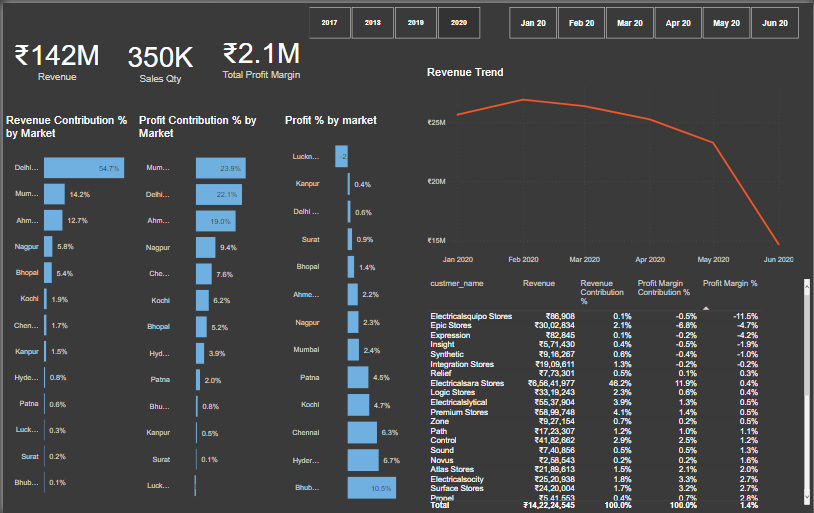

The dashboard page shown, as its layout file describes it:
{"tool":"powerbi","page":{"name":"Profit Analysis","canvas":[1350,850],"ordinal":1},"visuals":[{"type":"card","fields":{"Values":["BaseMeasures (2).Revenue"]},"box":[0,0,179.6,184.8],"z":0},{"type":"card","fields":{"Values":["BaseMeasures (2).Sales Qty"]},"box":[179.6,0,164.1,193],"z":1000},{"type":"barChart","title":"Profit % by market","fields":{"Y":["BaseMeasures (2).Profit Margin %"],"Category":["sales markets.markets_name"]},"box":[464.5,184.8,230.2,664.8],"z":2000},{"type":"barChart","title":"Profit Contribution % by Market","fields":{"Y":["BaseMeasures (2).Profit Margin Contribution %"],"Category":["sales markets.markets_name"]},"box":[221.9,185.8,208.5,659.6],"z":3000},{"type":"slicer","fields":{"Values":["sales date.year"]},"box":[483.2,0,335.5,66.5],"z":4000},{"type":"slicer","fields":{"Values":["sales date.cy_date"]},"box":[818.6,0,531.7,66.5],"z":5000},{"type":"tableEx","title":"Top 5 Customers","fields":{"Values":["sales customers.custmer_name","BaseMeasures (2).Revenue","BaseMeasures (2).Revenue Contribution %","BaseMeasures (2).Profit Margin Contribution %","BaseMeasures (2).Profit Margin %"]},"box":[701.9,454.2,648.3,395.4],"z":6000},{"type":"lineChart","title":"Revenue Trend","fields":{"Y":["BaseMeasures (2).Revenue"],"Category":["sales date.cy_date"]},"box":[701.9,104.3,621.4,338.6],"z":7000},{"type":"card","fields":{"Values":["BaseMeasures (2).Total Profit Margin"]},"box":[349.9,0,161,176.5],"z":8000},{"type":"barChart","title":"Revenue Contribution % by Market","fields":{"Y":["BaseMeasures (2).Revenue Contribution %"],"Category":["sales markets.markets_name"]},"box":[0,185.8,219.9,654.5],"z":9000}]}

Visuals, with their boxes in screenshot pixels (x1, y1, x2, y2), scaled from the page's 1350x850 canvas onto the 814x513 screenshot:
card - BaseMeasures (2).Revenue: left=0, top=0, right=108, bottom=112
card - BaseMeasures (2).Sales Qty: left=108, top=0, right=207, bottom=116
"Profit % by market" barChart: left=280, top=112, right=419, bottom=512
"Profit Contribution % by Market" barChart: left=134, top=112, right=260, bottom=510
slicer - sales date.year: left=291, top=0, right=494, bottom=40
slicer - sales date.cy_date: left=494, top=0, right=813, bottom=40
"Top 5 Customers" tableEx: left=423, top=274, right=813, bottom=512
"Revenue Trend" lineChart: left=423, top=63, right=798, bottom=267
card - BaseMeasures (2).Total Profit Margin: left=211, top=0, right=308, bottom=107
"Revenue Contribution % by Market" barChart: left=0, top=112, right=133, bottom=507
